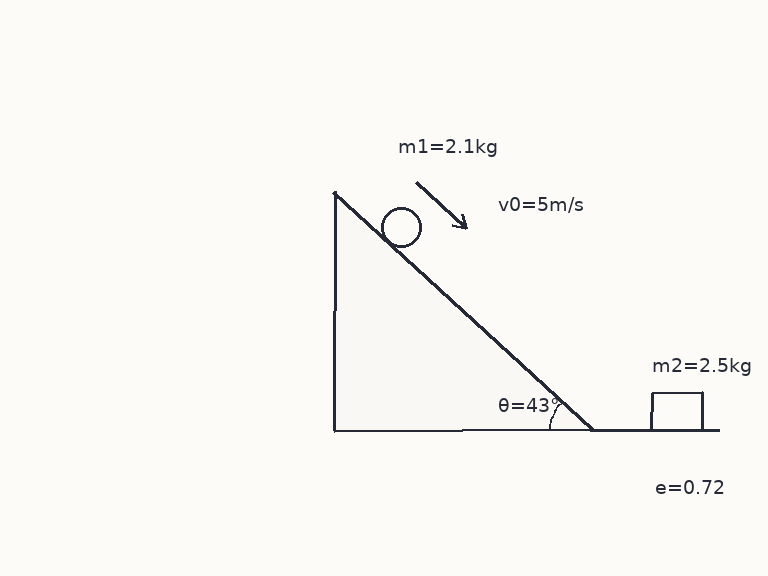ball: (379, 205, 423, 249)
block: (649, 391, 705, 432)
ramp: (333, 190, 592, 432)
